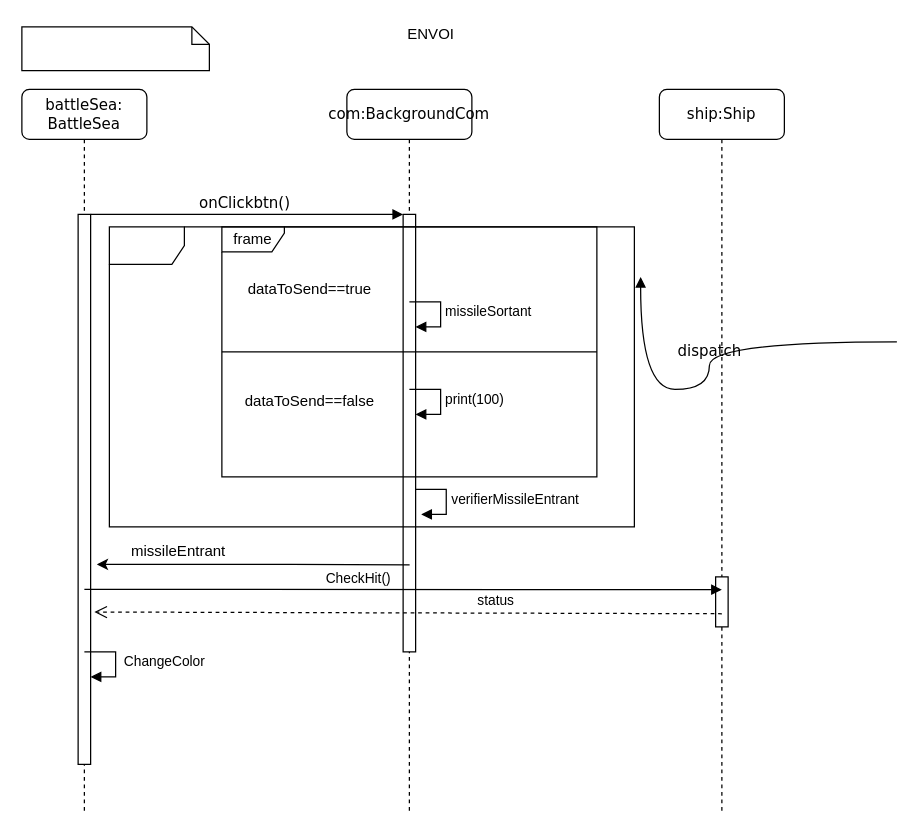
Some shapes in this 919 by 836 pixel diagram are drawn without their labels. The shapes that lost their labels are listed below. From the top down, each one's box as (x1, y1, x2, y2) in pixels, then its label:
(21, 26, 209, 71): apres avoir clicked sur btn
(108, 226, 634, 527): loop
